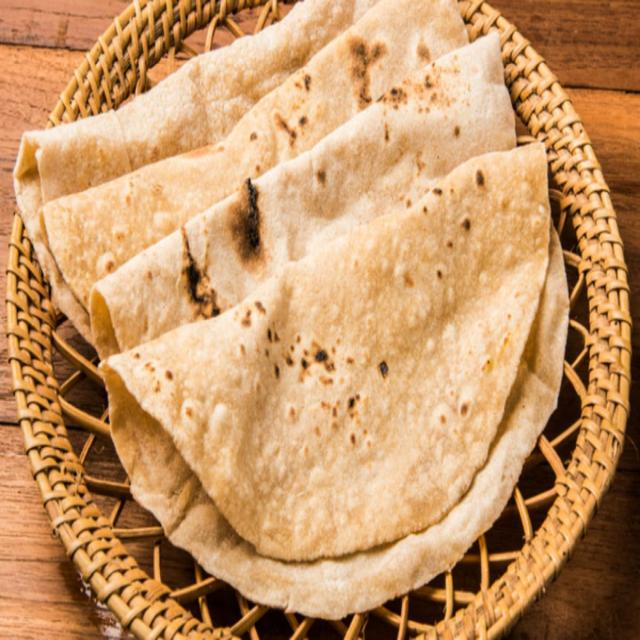CHAPATHI: (14, 0, 576, 621)
